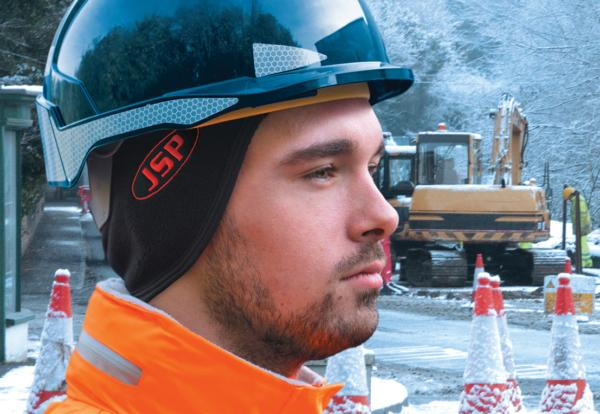helmet: (30, 1, 416, 183)
